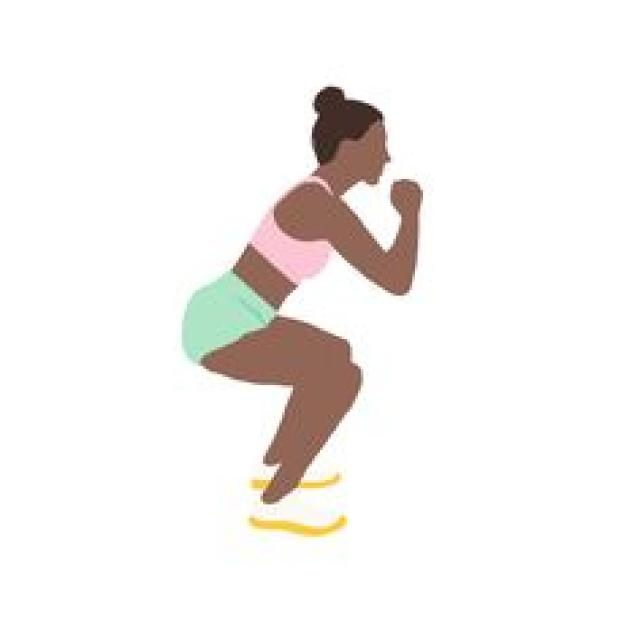squat: (176, 78, 427, 544)
